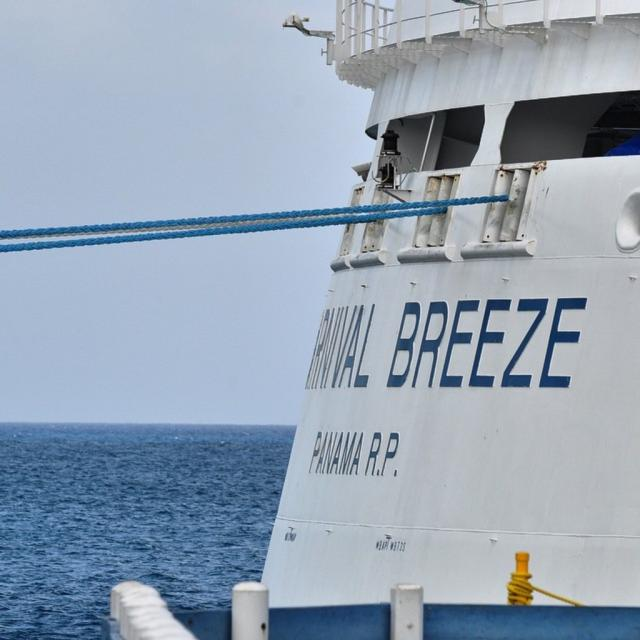Boat: (53, 17, 640, 625)
